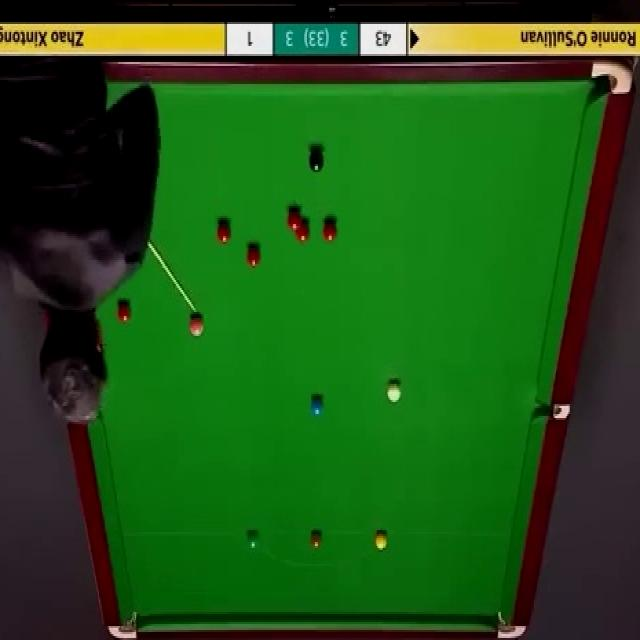pocket: (590, 63, 632, 97), (106, 608, 140, 640), (497, 612, 527, 640), (538, 402, 574, 422)
